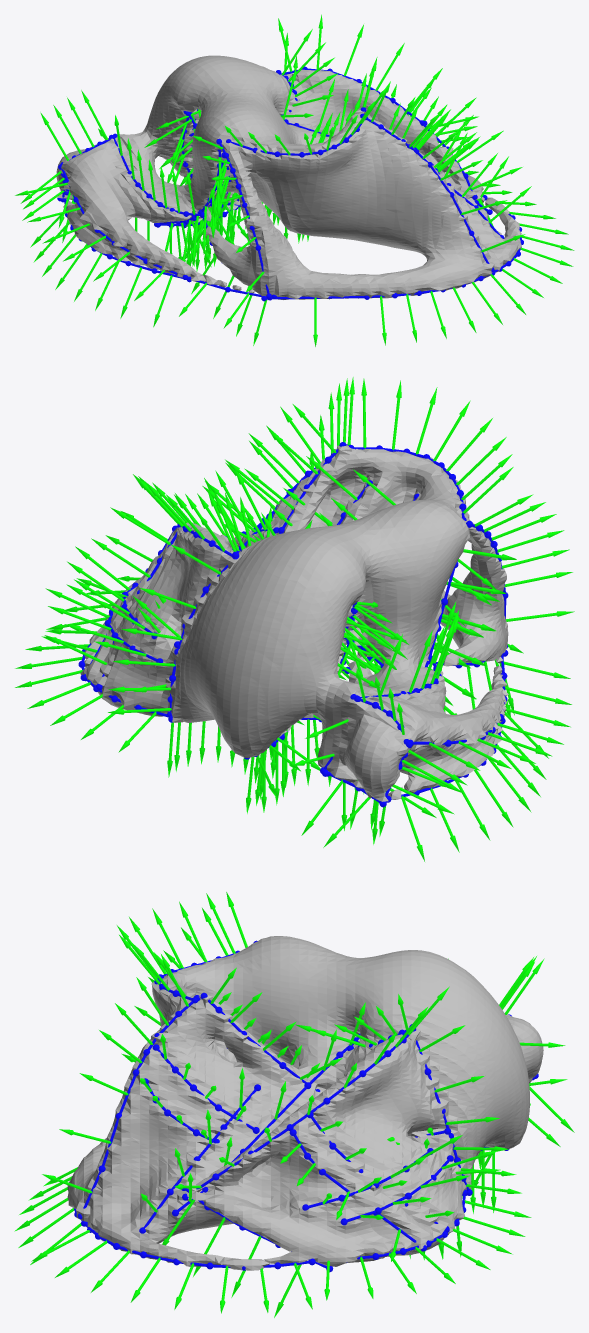
The model's file is author1_building.gltf.
3 views of the same model, one above another, from view 1: azimuth 30°, elevation 25°; view 2: azimuth 150°, elevation 25°; view 3: azimuth 270°, elevation 25° (orthographic). The views are drawn at different scales.
Bounding box in the file's own units: 0.8792 × 0.4626 × 0.7975.
